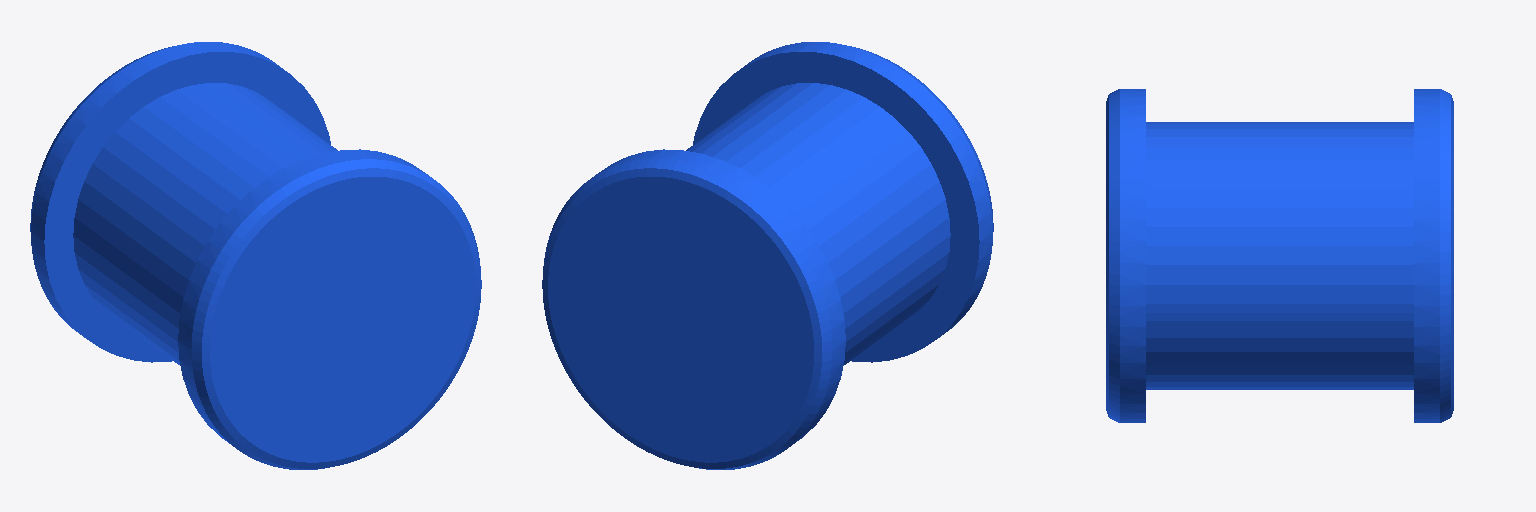
Rendered from pin.obj.
The picture shows the model from 3 angles: view 1: azimuth 30°, elevation 25°; view 2: azimuth 150°, elevation 25°; view 3: azimuth 270°, elevation 25°; orthographic projection.
Visible parts, largest first — view 1: mesh 1 pin; view 2: mesh 1 pin; view 3: mesh 1 pin.
Boxes of the visible parts, <box> form: mesh 1 pin: <box>30,42,481,469</box>; mesh 1 pin: <box>542,42,993,469</box>; mesh 1 pin: <box>1106,89,1453,422</box>.
Size of the model in its own units: 0.025 by 0.025 by 0.026.